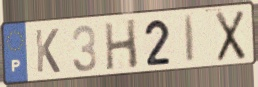2: (141, 15, 175, 70)
3: (70, 23, 98, 73)
H: (102, 17, 140, 72)
I: (182, 13, 196, 65)
K: (33, 27, 62, 75)
X: (214, 8, 247, 64)
